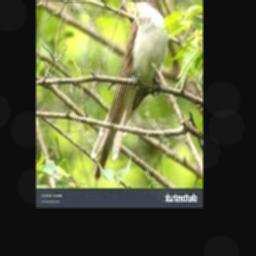Cuckoo: (91, 0, 167, 179)
